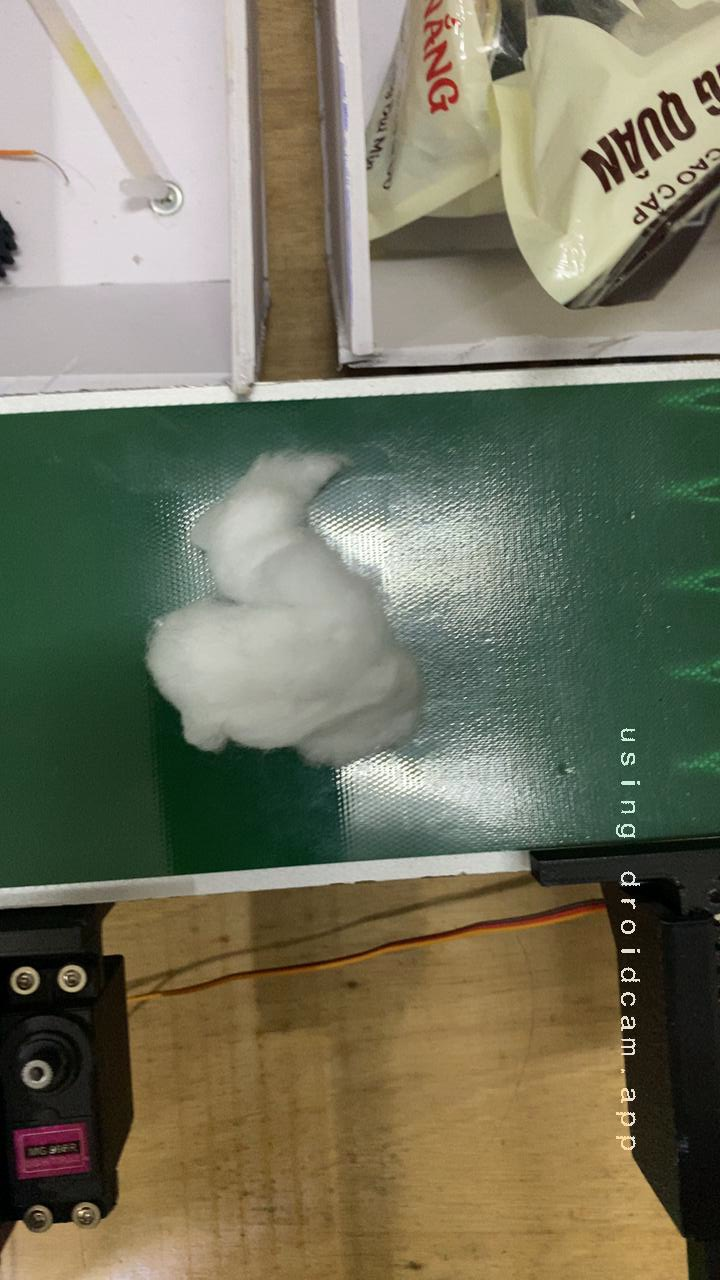cotton: (107, 422, 460, 791)
